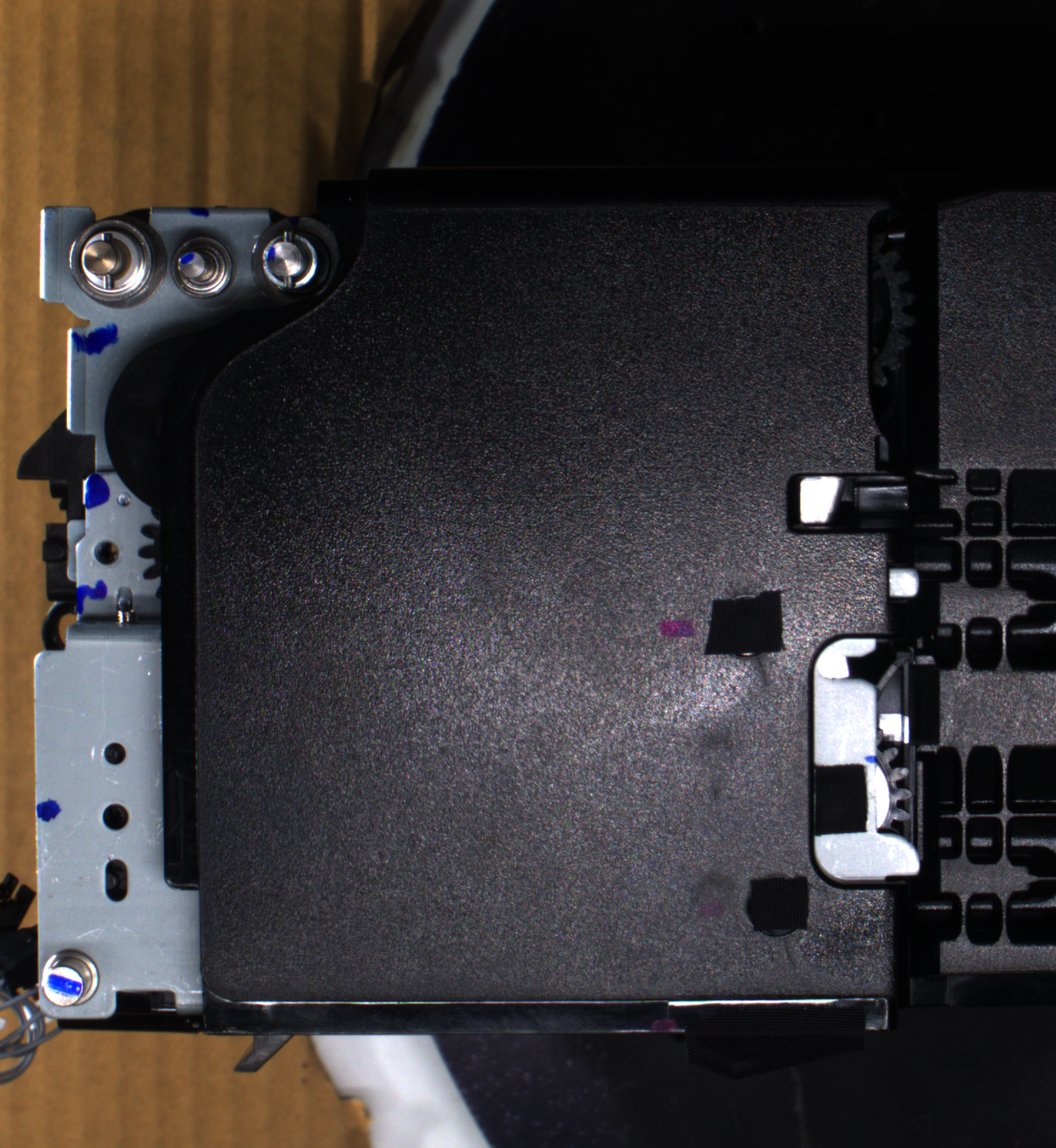centre_plate_presence: (802, 628, 930, 894)
gear1_absence: (66, 214, 169, 311)
gear2_absence: (165, 230, 237, 302)
gear3_absence: (247, 215, 337, 303)
side_screw_absence: (97, 801, 134, 834), (88, 537, 123, 571)
slanting_pin_presence: (36, 945, 108, 1015)
